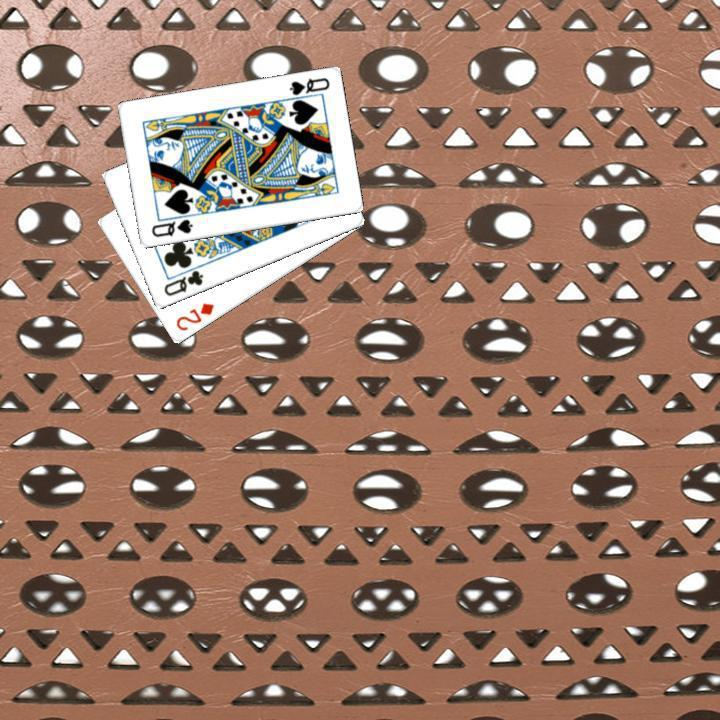2: (171, 299, 216, 333)
Q: (159, 266, 205, 299), (147, 215, 195, 240), (285, 73, 331, 98)
